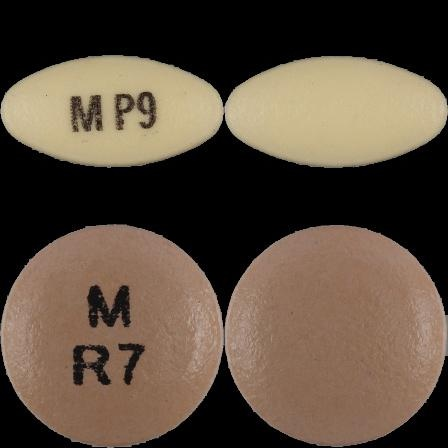0378-6689: (0, 0, 224, 224)
